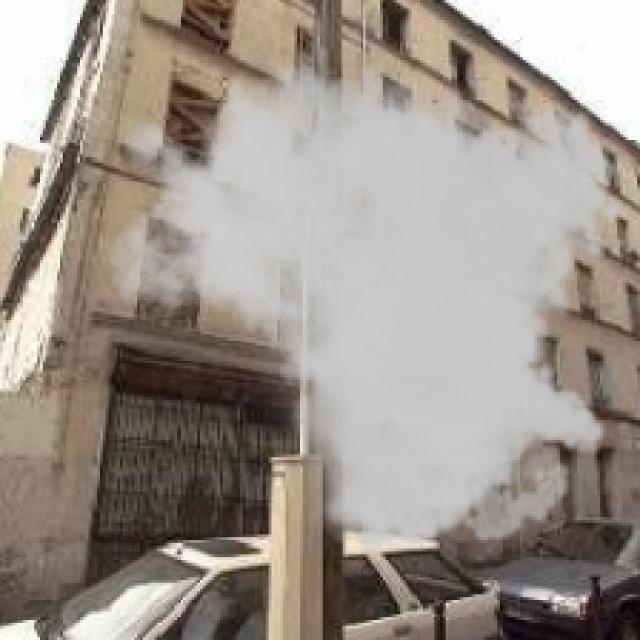smoke: (106, 14, 628, 557)
